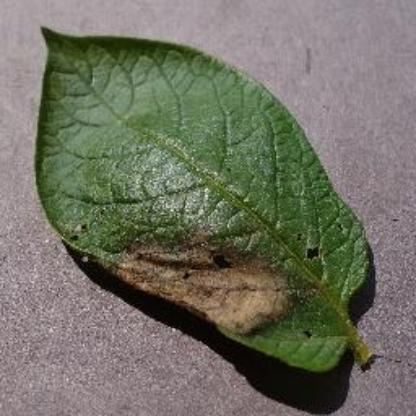Late-Blight: (31, 21, 388, 377)
